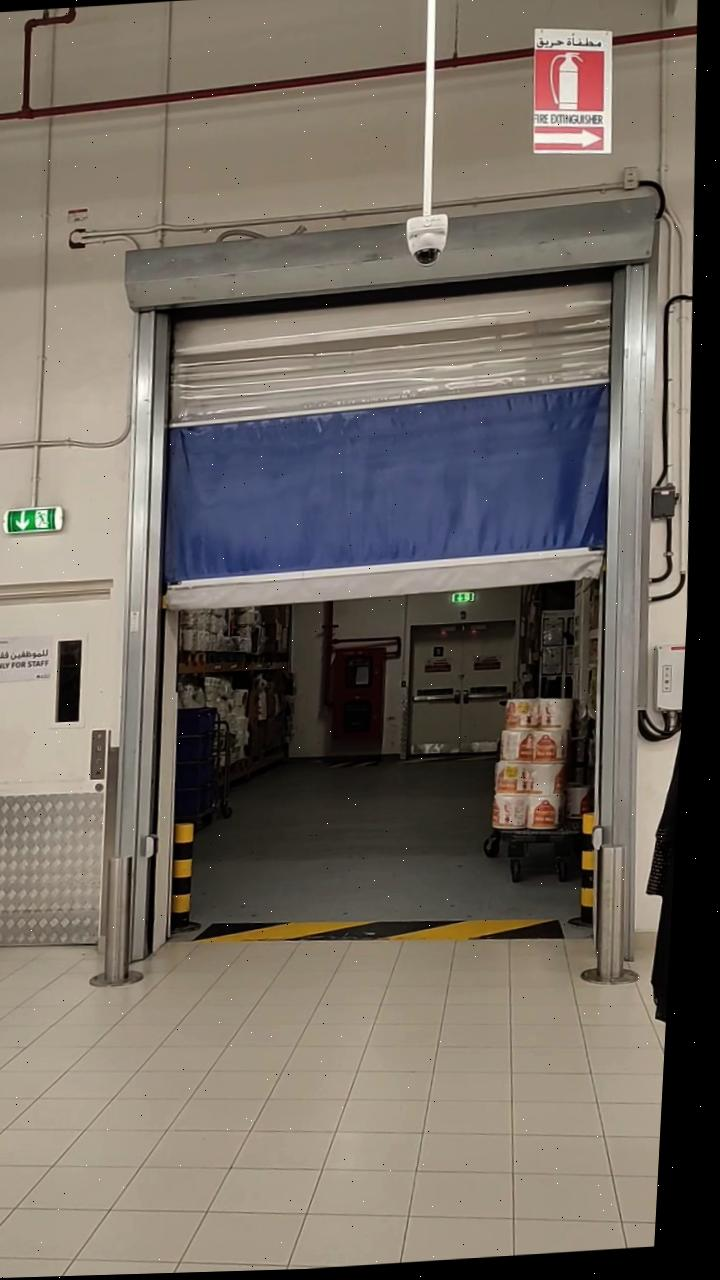Strip: (209, 895, 573, 962)
